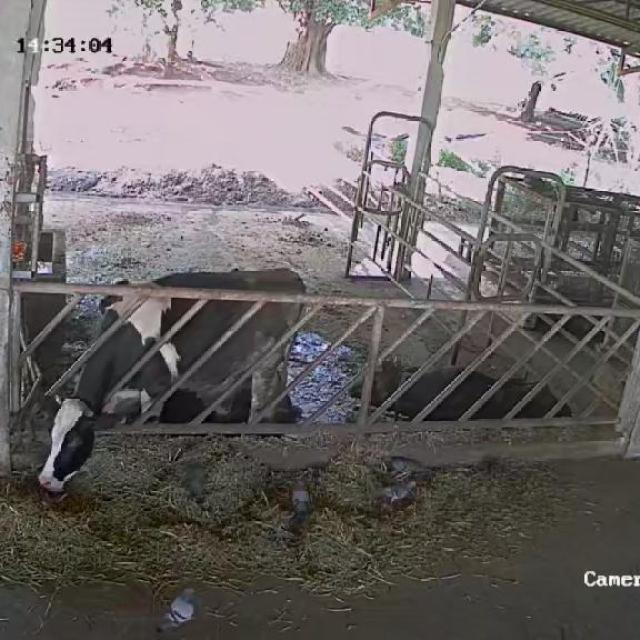feeding: (30, 256, 319, 510)
